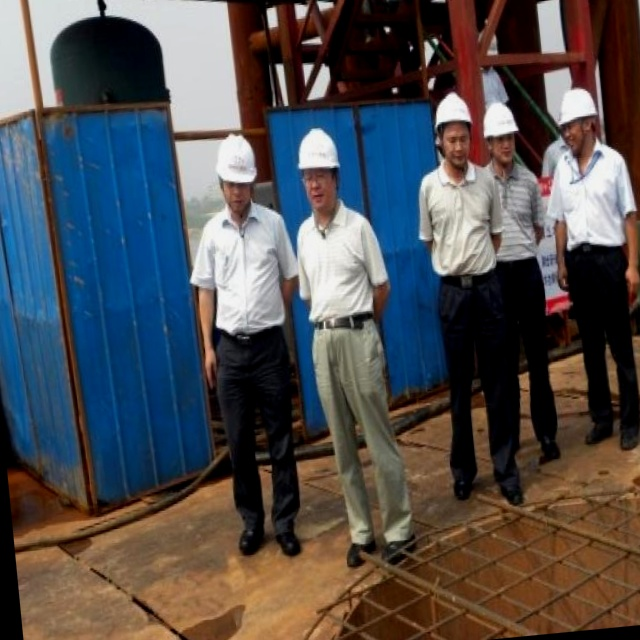Con_Casco: (295, 125, 344, 210)
Sin_Chaleco: (197, 199, 293, 337), (421, 161, 501, 281)
